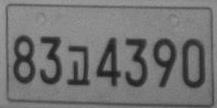0: (181, 37, 206, 88)
3: (124, 37, 148, 87), (39, 36, 63, 85)
4: (95, 36, 121, 87)
8: (12, 34, 36, 84)
9: (152, 37, 177, 88)
고: (66, 45, 90, 86)
